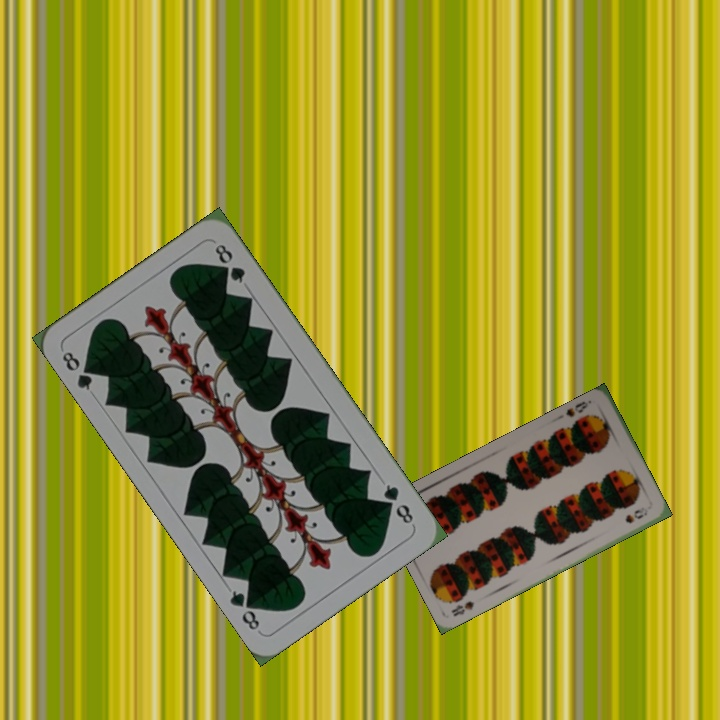G8: (58, 347, 99, 393), (379, 480, 416, 529)
S8: (561, 396, 594, 419), (447, 597, 476, 619)
